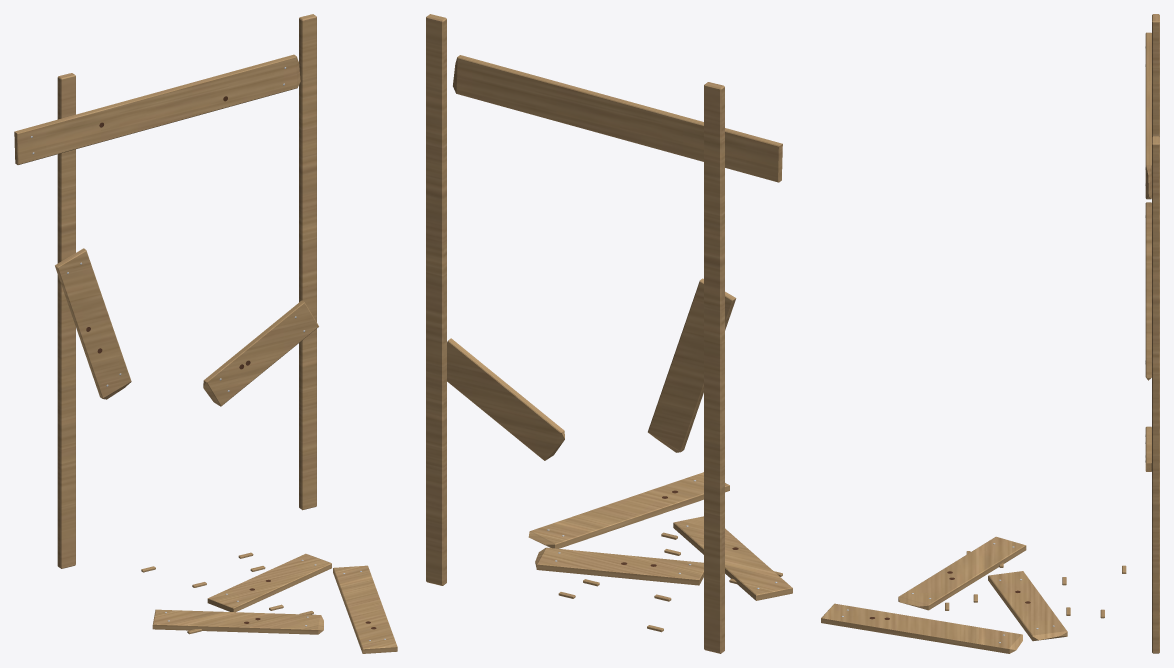
Rendered from barricada_arrombada.glb.
3 views of the same model, side by side, from view 1: azimuth 30°, elevation 25°; view 2: azimuth 150°, elevation 25°; view 3: azimuth 270°, elevation 25° (orthographic). The views are drawn at different scales.
Parts seen in each view (by area): view 1: barricada_arrombada_madeira_crua; view 2: barricada_arrombada_madeira_crua; view 3: barricada_arrombada_madeira_crua.
Part boxes in pixels (x1,y1,x2,y2): barricada_arrombada_madeira_crua: (14, 14, 397, 653); barricada_arrombada_madeira_crua: (426, 14, 792, 653); barricada_arrombada_madeira_crua: (821, 14, 1159, 653).
Bounding box in the file's own units: 1.38 × 2.18 × 1.29.
3 materials, 2 textured.
